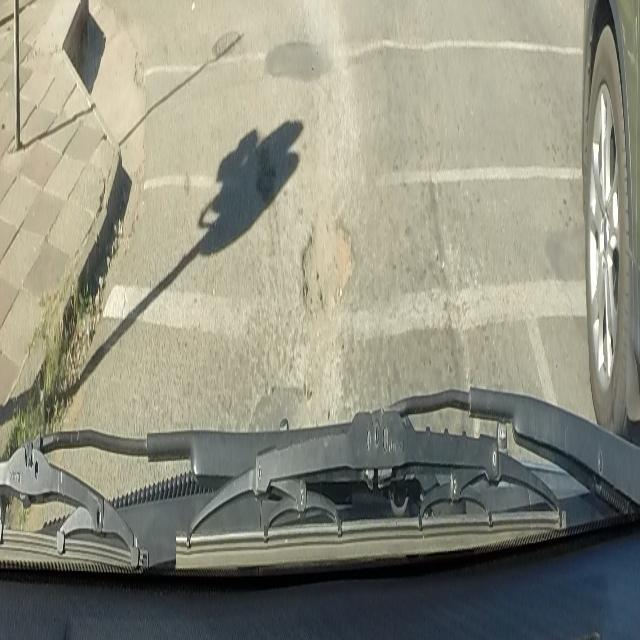pothole: (302, 207, 356, 324)
